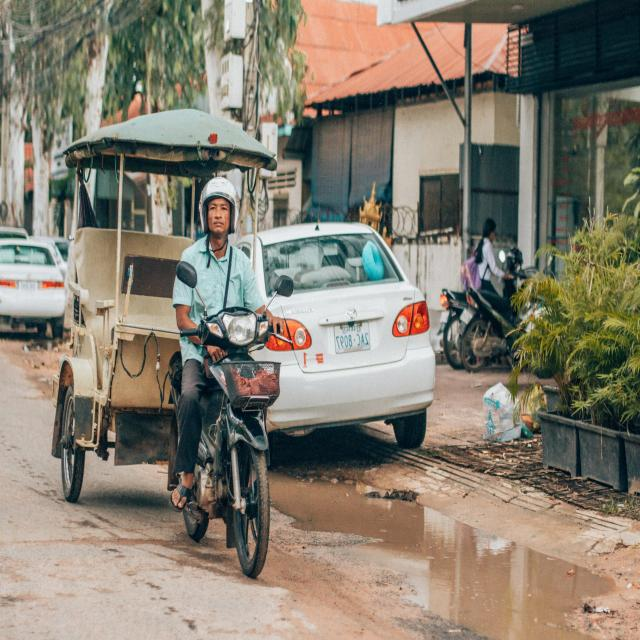adult: (170, 177, 274, 511)
